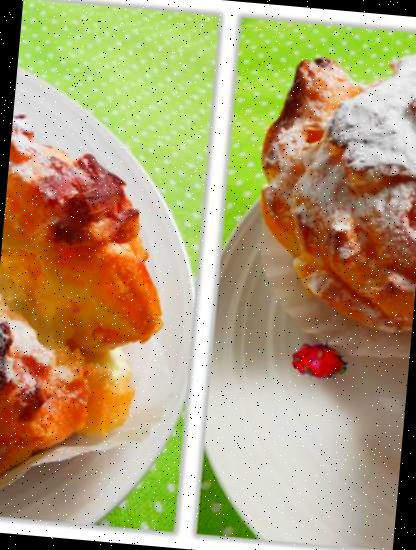Pitahaya: (290, 328, 352, 391)
